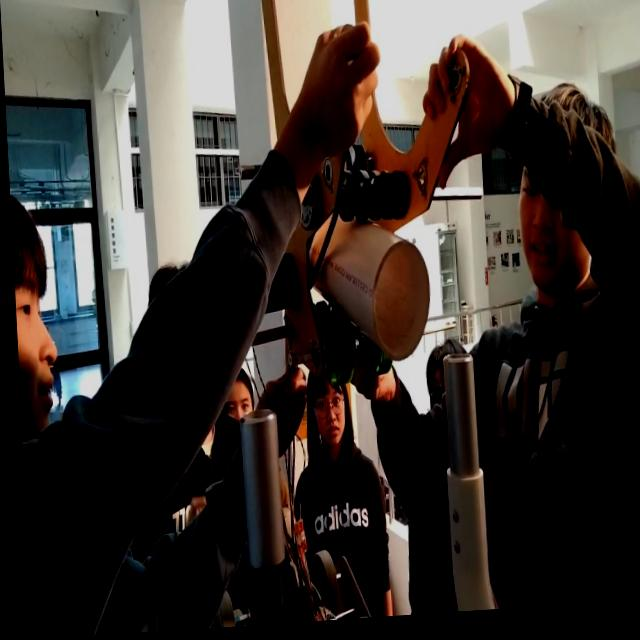CORAL: (308, 186, 435, 369)
